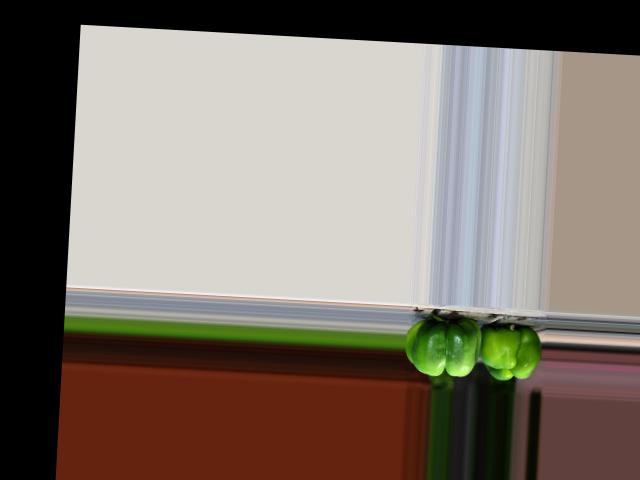bell_pepper: (477, 318, 545, 384)
